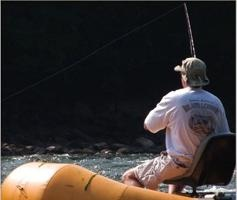person without safety: (142, 54, 231, 165)
